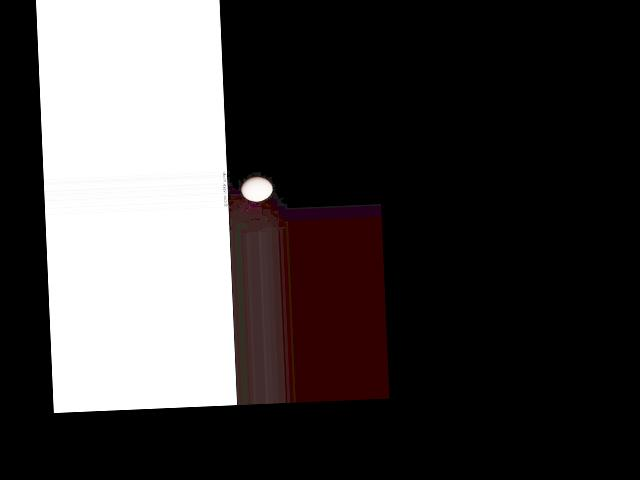egg: (239, 176, 272, 201)
